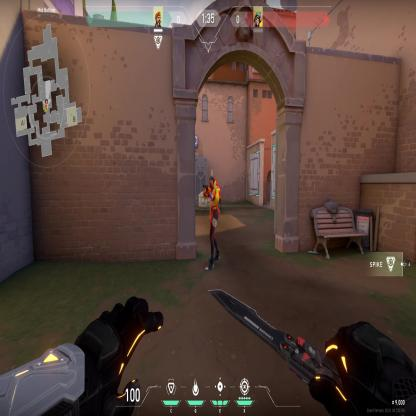enemy: (203, 168, 221, 273)
